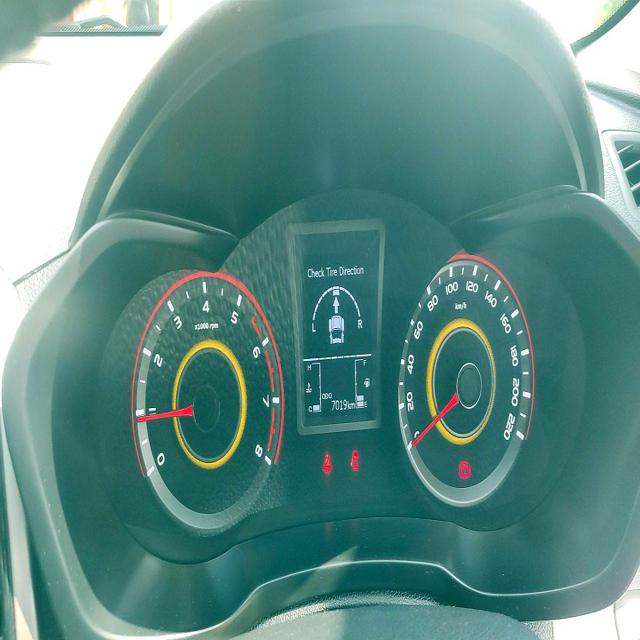odometer: (331, 397, 348, 413)
